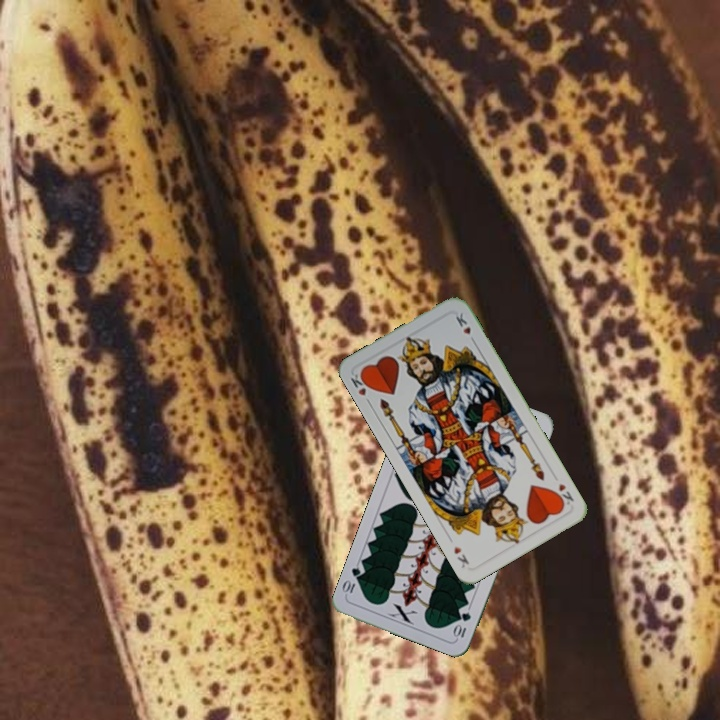G10: (450, 608, 474, 641)
HK: (346, 367, 374, 408), (551, 479, 576, 510)
